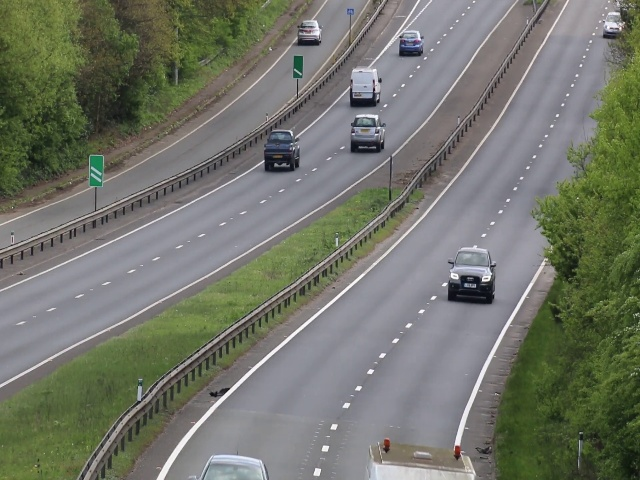car: (447, 247, 495, 306), (196, 452, 272, 480), (264, 129, 301, 171), (350, 112, 385, 152), (349, 68, 382, 105), (398, 27, 424, 58), (602, 11, 627, 39), (296, 19, 324, 44)
